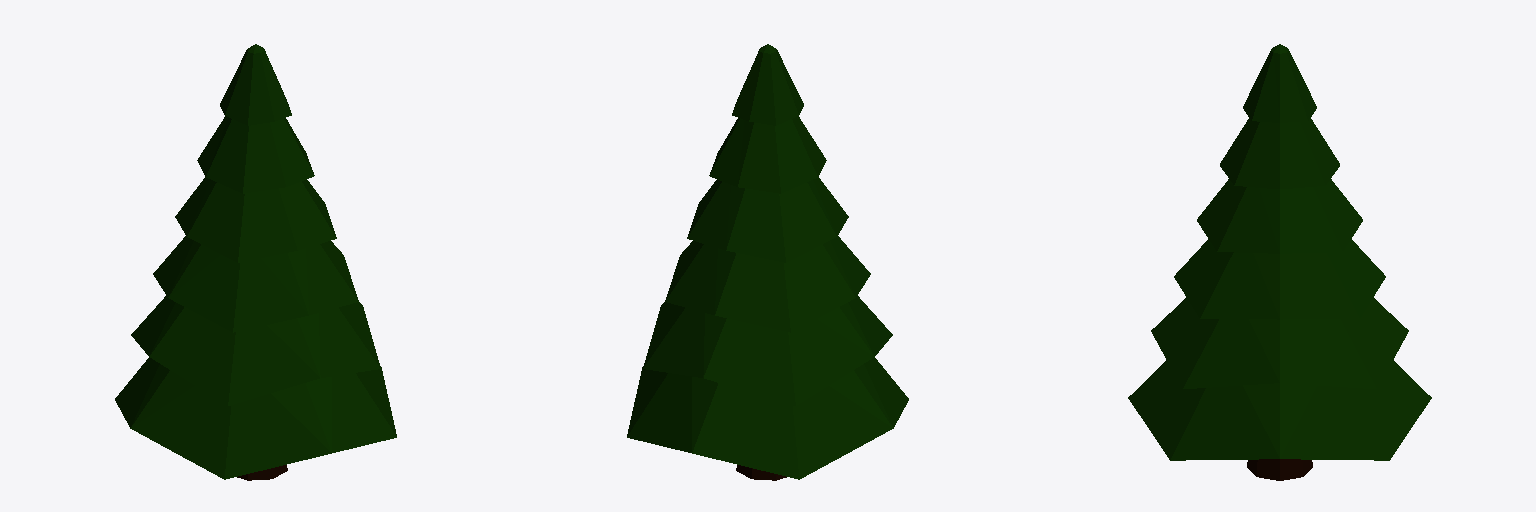
The model's file is Arbol_sin_nieve.obj.
3 views of the same model, side by side, from view 1: azimuth 30°, elevation 25°; view 2: azimuth 150°, elevation 25°; view 3: azimuth 270°, elevation 25° (orthographic).
Visible parts, largest first — view 1: Object002; view 2: Object002; view 3: Object002.
Boxes of the visible parts, box(x1,y1,x2,y2) form: Object002: box(115, 44, 396, 480); Object002: box(627, 44, 908, 480); Object002: box(1128, 44, 1431, 480).
Bounding box in the file's own units: 49.43 × 79.47 × 51.79.